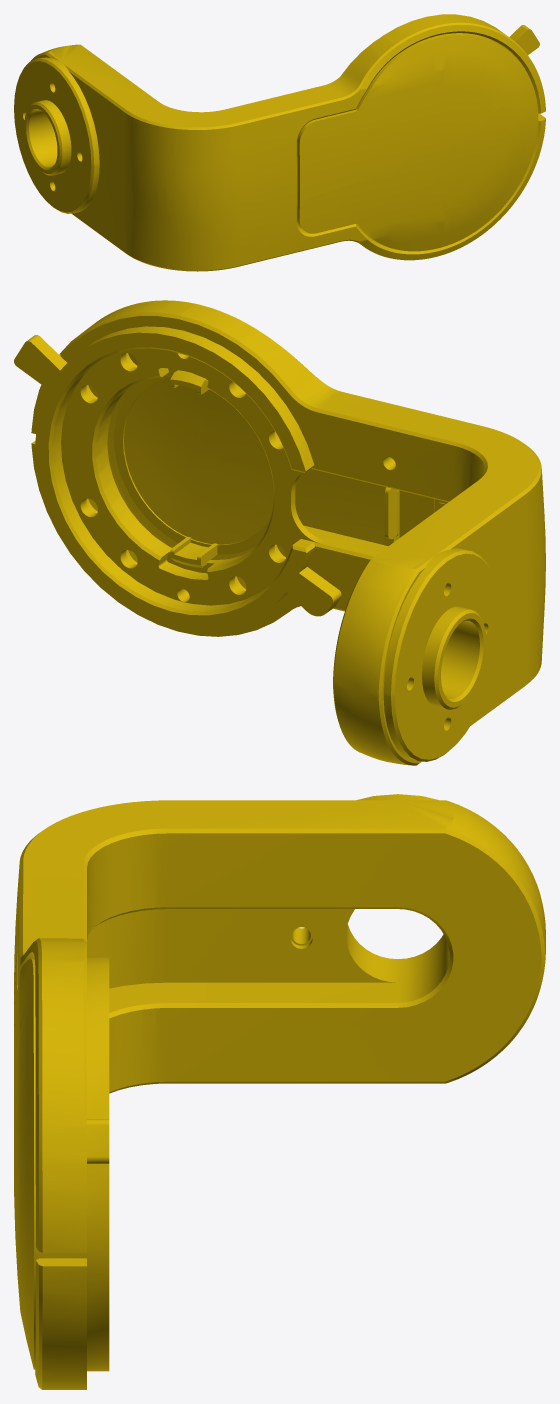
File: armr7.glb
3 renders of one model, top to bottom at view 1: azimuth 30°, elevation 25°; view 2: azimuth 150°, elevation 25°; view 3: azimuth 270°, elevation 25°, orthographic. The views are drawn at different scales.
Visible parts, largest first — view 1: Mesh_0.003; view 2: Mesh_0.003; view 3: Mesh_0.003.
Boxes of the visible parts, x1,y1,x2,y2 form: Mesh_0.003: (14, 14, 545, 271); Mesh_0.003: (14, 300, 545, 765); Mesh_0.003: (14, 794, 545, 1389).
Bounding box in the file's own units: 0.1133 × 0.061 × 0.0719.
